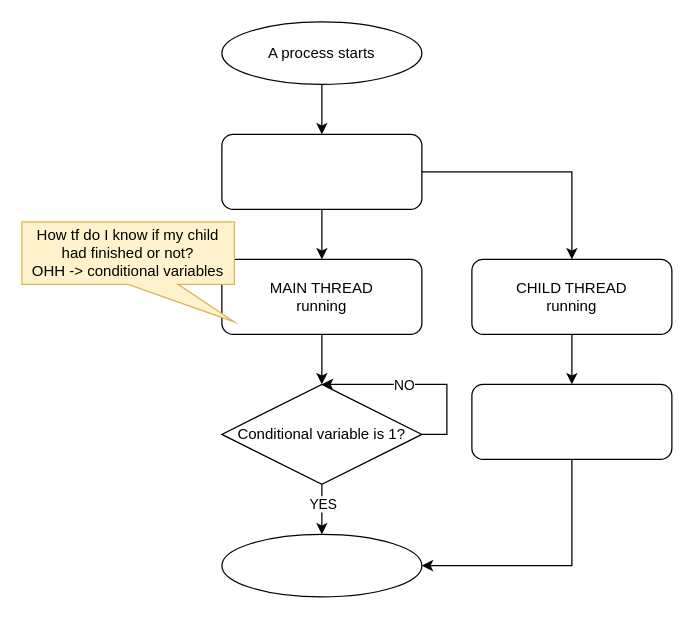
The diagram is 694 pixels wide and 619 high, and some of its shapes have lost their labels. Each missing label, with the centre of its shape:
CHILD THREAD finishes -> change conditional variable to 1: the point at 571,421
Create a new thread: the point at 321,171
process ends: the point at 321,565
